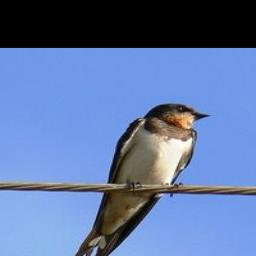Swallow: (70, 102, 212, 256)
